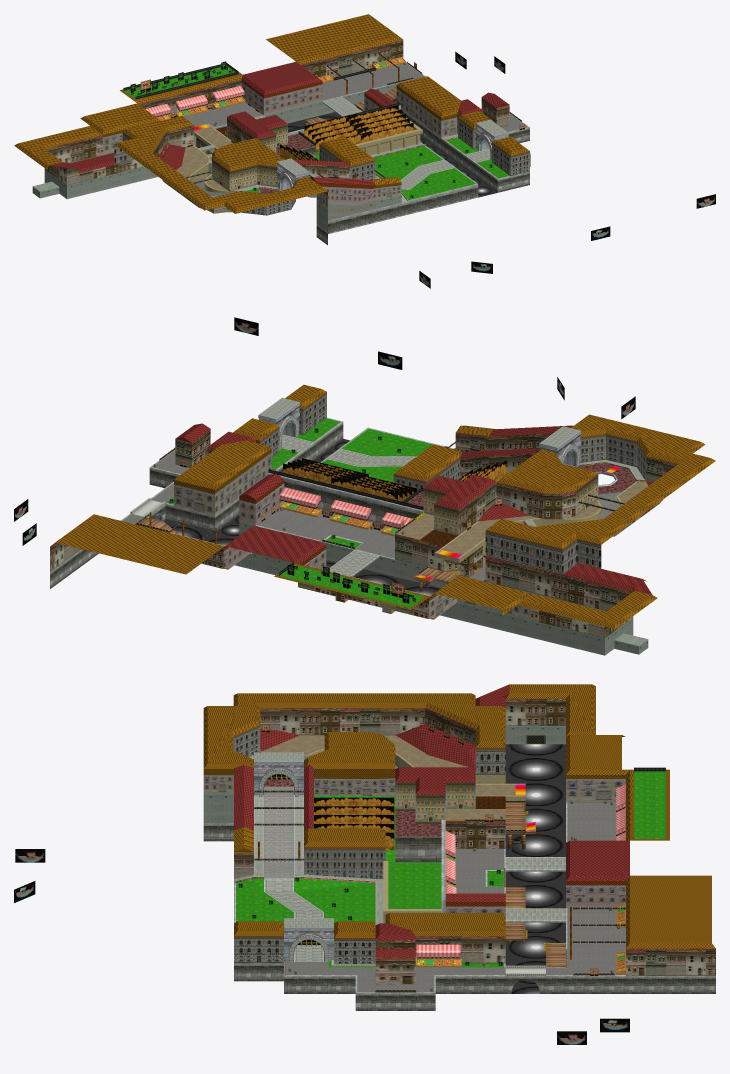
3 renders of one model, top to bottom at view 1: azimuth 30°, elevation 25°; view 2: azimuth 150°, elevation 25°; view 3: azimuth 270°, elevation 25°, orthographic. The views are drawn at different scales.
Visible parts, largest first — view 1: Pianta_Plaza-SKP-Roof2, Pianta_Plaza-SKP-Buildings, Pianta_Plaza-SKP-OrangeBuilding, Pianta_Plaza-SKP-Roof1, Pianta_Plaza-SKP-DockWall, Pianta_Plaza-SKP-Grass, Pianta_Plaza-SKP-RedBuilding, Pianta_Plaza-SKP-TreeBG, Pianta_Plaza-SKP-Road2, Pianta_Plaza-SKP-House1, Pianta_Plaza-SKP-ArchRoad, Pianta_Plaza-SKP-House2 (+9 smaller); view 2: Pianta_Plaza-SKP-Roof2, Pianta_Plaza-SKP-Buildings, Pianta_Plaza-SKP-OrangeBuilding, Pianta_Plaza-SKP-Roof1, Pianta_Plaza-SKP-House1, Pianta_Plaza-SKP-DockWall, Pianta_Plaza-SKP-Grass, Pianta_Plaza-SKP-Road2, Pianta_Plaza-SKP-ArchRoad, Pianta_Plaza-SKP-TreeBG, Pianta_Plaza-SKP-Decoration, Pianta_Plaza-SKP-Plaza (+12 smaller); view 3: Pianta_Plaza-SKP-Roof2, Pianta_Plaza-SKP-Buildings, Pianta_Plaza-SKP-DockWall, Pianta_Plaza-SKP-Roof1, Pianta_Plaza-SKP-Grass, Pianta_Plaza-SKP-River, Pianta_Plaza-SKP-Road2, Pianta_Plaza-SKP-ArchRoad, Pianta_Plaza-SKP-House1, Pianta_Plaza-SKP-OrangeBuilding, Pianta_Plaza-SKP-Plaza, Pianta_Plaza-SKP-TreeBG (+13 smaller).
Part boxes in pixels (x1,y1,x2,y2): Pianta_Plaza-SKP-Roof2: [14, 14, 529, 213]; Pianta_Plaza-SKP-Buildings: [44, 40, 509, 213]; Pianta_Plaza-SKP-OrangeBuilding: [32, 83, 457, 231]; Pianta_Plaza-SKP-Roof1: [49, 62, 509, 185]; Pianta_Plaza-SKP-DockWall: [214, 62, 530, 244]; Pianta_Plaza-SKP-Grass: [124, 65, 509, 200]; Pianta_Plaza-SKP-RedBuilding: [202, 79, 382, 220]; Pianta_Plaza-SKP-TreeBG: [280, 105, 413, 160]; Pianta_Plaza-SKP-Road2: [184, 63, 527, 196]; Pianta_Plaza-SKP-House1: [114, 117, 529, 215]; Pianta_Plaza-SKP-ArchRoad: [198, 97, 508, 202]; Pianta_Plaza-SKP-House2: [212, 124, 287, 191]; Pianta_Plaza-SKP-Roof2: [54, 384, 715, 628]; Pianta_Plaza-SKP-Buildings: [50, 429, 677, 638]; Pianta_Plaza-SKP-OrangeBuilding: [174, 440, 648, 655]; Pianta_Plaza-SKP-Roof1: [176, 423, 653, 594]; Pianta_Plaza-SKP-House1: [260, 392, 645, 574]; Pianta_Plaza-SKP-DockWall: [50, 417, 453, 596]; Pianta_Plaza-SKP-Grass: [167, 418, 432, 607]; Pianta_Plaza-SKP-Road2: [122, 450, 621, 580]; Pianta_Plaza-SKP-ArchRoad: [250, 397, 644, 576]; Pianta_Plaza-SKP-TreeBG: [283, 458, 506, 501]; Pianta_Plaza-SKP-Decoration: [14, 317, 644, 603]; Pianta_Plaza-SKP-Plaza: [396, 481, 648, 554]; Pianta_Plaza-SKP-Roof2: [203, 684, 715, 948]; Pianta_Plaza-SKP-Buildings: [234, 698, 715, 984]; Pianta_Plaza-SKP-DockWall: [203, 802, 715, 1010]; Pianta_Plaza-SKP-Roof1: [234, 684, 629, 956]; Pianta_Plaza-SKP-Grass: [236, 771, 665, 967]; Pianta_Plaza-SKP-River: [505, 744, 565, 993]; Pianta_Plaza-SKP-Road2: [286, 755, 625, 991]; Pianta_Plaza-SKP-ArchRoad: [234, 752, 565, 961]; Pianta_Plaza-SKP-House1: [233, 725, 505, 964]; Pianta_Plaza-SKP-OrangeBuilding: [203, 726, 625, 823]; Pianta_Plaza-SKP-Plaza: [262, 735, 515, 821]; Pianta_Plaza-SKP-TreeBG: [314, 797, 394, 850].
Size of what is drawn, in the model's own units: 155233 by 18443 by 140272.
46 materials, 46 textured.
